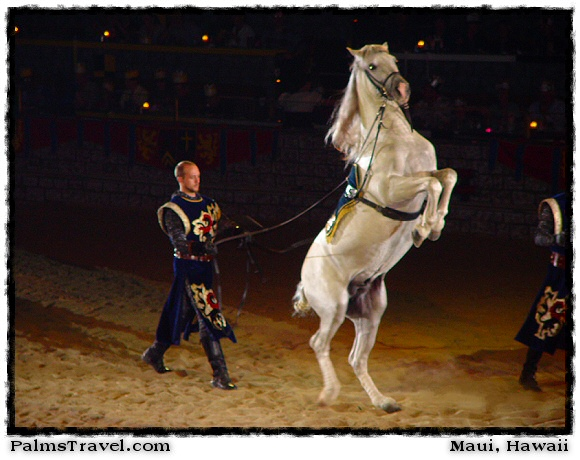Horse: (290, 36, 463, 422)
Person: (130, 136, 246, 395), (526, 162, 580, 398)
